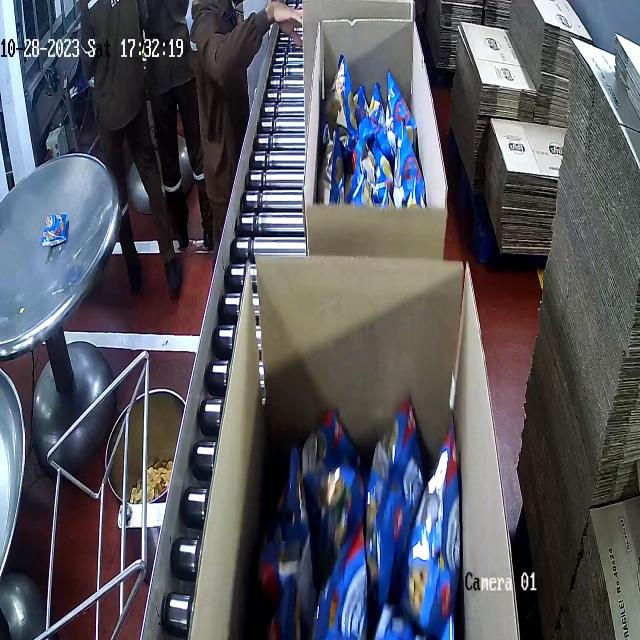PAPRIKA: (266, 390, 459, 640), (319, 52, 424, 208)
